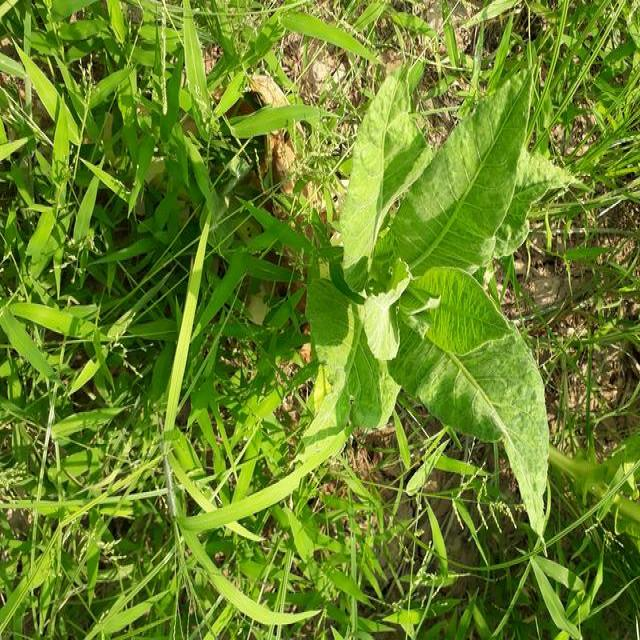crop: (308, 52, 560, 524)
